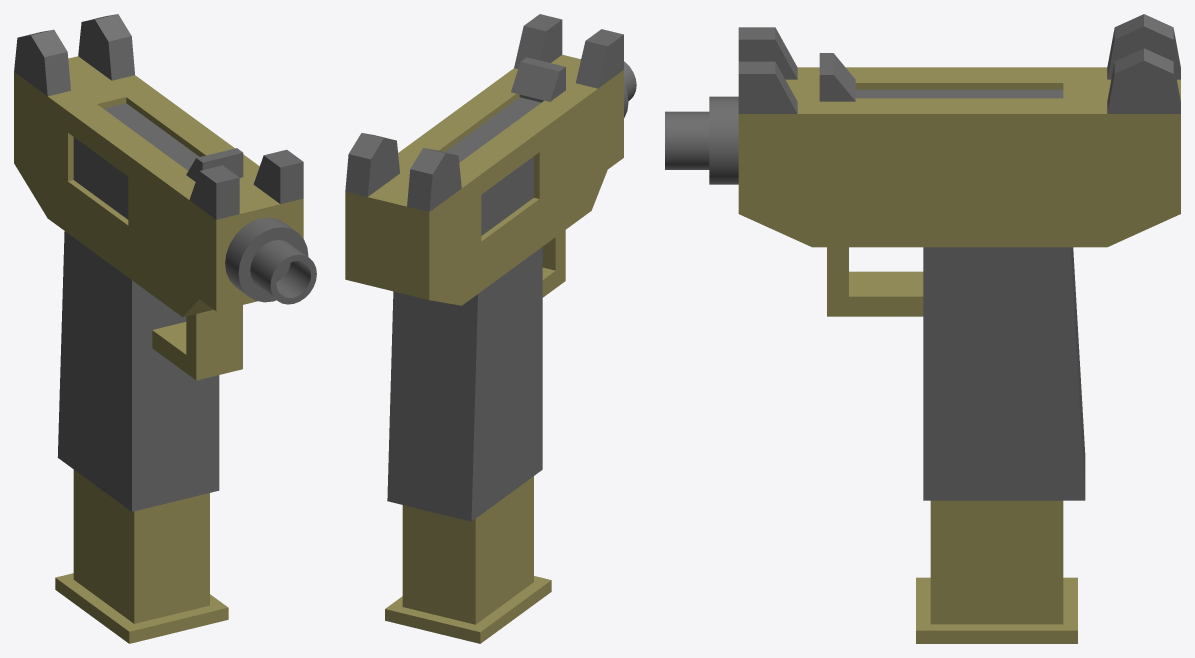
The model's file is uziGold.glb.
3 renders of one model, left to right at view 1: azimuth 30°, elevation 25°; view 2: azimuth 150°, elevation 25°; view 3: azimuth 270°, elevation 25°, orthographic. The views are drawn at different scales.
Parts seen in each view (by area): view 1: uziGold; view 2: uziGold; view 3: uziGold.
Boxes of the visible parts, <box> form: uziGold: <box>14,14,316,643</box>; uziGold: <box>345,14,636,643</box>; uziGold: <box>665,14,1180,643</box>.
Bounding box in the file's own units: 0.0102 × 0.0522 × 0.0421.
